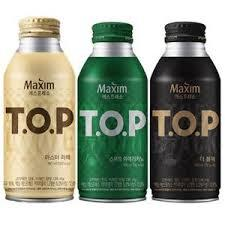TOP_black: (149, 18, 223, 205)
